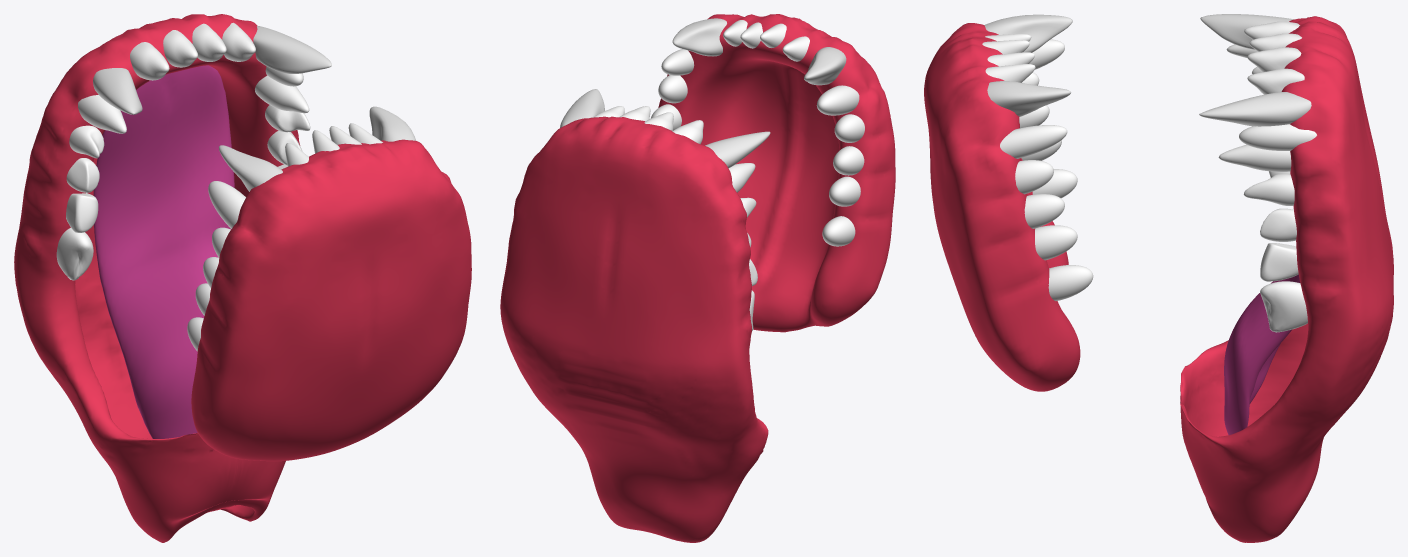
The picture shows the model from 3 angles, left to right: view 1: azimuth 30°, elevation 25°; view 2: azimuth 150°, elevation 25°; view 3: azimuth 270°, elevation 25°; orthographic projection. The views are drawn at different scales.
Visible parts, largest first — view 1: upper pallate_36, Quad Sphere_34, Icosphere.032_38, Icosphere.001_1, Icosphere.033_32, Icosphere.015_15, Icosphere.016_16, Icosphere.008_8, Icosphere.003_3, Icosphere.017_17, Icosphere.006_6, Icosphere.019_19 (+8 smaller); view 2: Quad Sphere_34, upper pallate_36, Icosphere.017_17, Icosphere.016_16, Icosphere.033_32, Icosphere.019_19, Icosphere.001_1, Icosphere.031_31, Icosphere.030_30, Icosphere.029_29, Icosphere.028_28, Icosphere.018_18 (+3 smaller); view 3: Quad Sphere_34, upper pallate_36, Icosphere.032_38, Icosphere.001_1, Icosphere.034_33, Icosphere.017_17, Icosphere.016_16, Icosphere.018_18, Icosphere.002_2, Icosphere.033_32, Icosphere.008_8, Icosphere.011_11 (+13 smaller).
Part boxes in pixels (<box>): upper pallate_36: <box>191,139,471,461</box>; Quad Sphere_34: <box>14,14,300,542</box>; Icosphere.032_38: <box>93,65,234,438</box>; Icosphere.001_1: <box>253,26,331,73</box>; Icosphere.033_32: <box>93,68,142,114</box>; Icosphere.015_15: <box>56,228,93,280</box>; Icosphere.016_16: <box>219,145,282,191</box>; Icosphere.008_8: <box>255,75,309,113</box>; Icosphere.003_3: <box>78,95,126,133</box>; Icosphere.017_17: <box>369,106,416,141</box>; Icosphere.006_6: <box>130,42,169,80</box>; Icosphere.019_19: <box>208,181,245,228</box>; Quad Sphere_34: <box>500,116,768,542</box>; upper pallate_36: <box>658,14,895,332</box>; Icosphere.017_17: <box>672,18,726,56</box>; Icosphere.016_16: <box>804,47,846,85</box>; Icosphere.033_32: <box>705,131,770,168</box>; Icosphere.019_19: <box>816,85,859,115</box>; Icosphere.001_1: <box>560,89,604,127</box>; Icosphere.031_31: <box>822,216,855,246</box>; Icosphere.030_30: <box>829,176,860,206</box>; Icosphere.029_29: <box>833,146,864,175</box>; Icosphere.028_28: <box>834,114,864,142</box>; Icosphere.018_18: <box>661,49,694,75</box>; Quad Sphere_34: <box>1180,16,1393,542</box>; upper pallate_36: <box>924,23,1080,391</box>; Icosphere.032_38: <box>1224,274,1300,434</box>; Icosphere.001_1: <box>1199,92,1311,126</box>; Icosphere.034_33: <box>1260,281,1307,332</box>; Icosphere.017_17: <box>987,81,1070,116</box>; Icosphere.016_16: <box>984,14,1072,52</box>; Icosphere.018_18: <box>1000,125,1067,158</box>; Icosphere.002_2: <box>1239,124,1316,150</box>; Icosphere.033_32: <box>1200,14,1294,49</box>; Icosphere.008_8: <box>1218,144,1291,171</box>; Icosphere.011_11: <box>1260,243,1298,281</box>.
Bounding box in the file's own units: 2.01 × 3.38 × 2.97.
